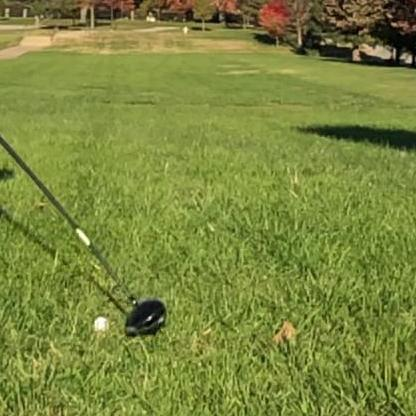golfball: (91, 312, 108, 329)
